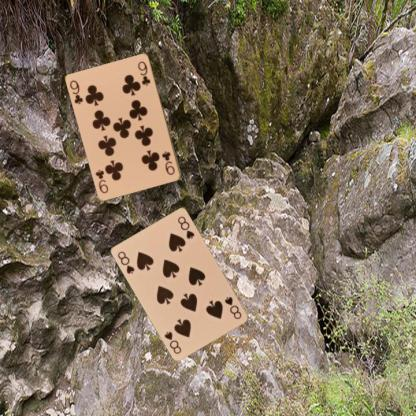8s: (115, 248, 136, 275), (222, 294, 242, 321)
9c: (67, 77, 84, 106), (160, 149, 176, 176)
